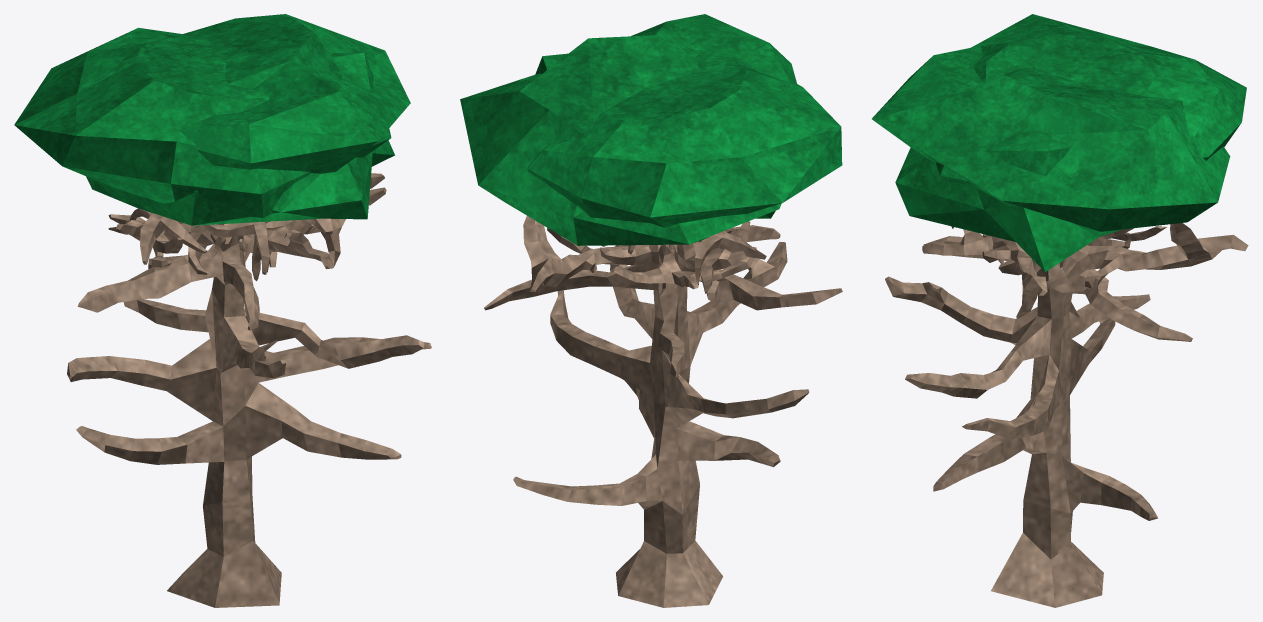
Rendered from stumps.fbx.
The picture shows the model from 3 angles, left to right: view 1: azimuth 30°, elevation 25°; view 2: azimuth 150°, elevation 25°; view 3: azimuth 270°, elevation 25°; orthographic projection.
Visible parts, largest first — view 1: sphere_1, sphere, Icosphere_selection, TREE TOP 1, Icosphere_selection_selection_21, Icosphere_selection_selection_20, Icosphere_selection_selection_16, Icosphere_selection_selection_17, Icosphere_selection_selection, Icosphere_selection_selection_18, Icosphere_selection_selection_19, Icosphere_selection_selection_15 (+6 smaller); view 2: sphere_1, sphere, Icosphere_selection, Icosphere_selection_selection_15, Icosphere_selection_selection_20, Icosphere_selection_selection_22, Icosphere_selection_selection_16, Icosphere_selection_selection, Icosphere_selection_selection_18, Icosphere_selection_selection_14, Icosphere_selection_selection_2, Icosphere_selection_selection_17 (+10 smaller); view 3: sphere, sphere_1, Icosphere_selection, TREE TOP 1, Icosphere_selection_selection_17, Icosphere_selection_selection_18, Icosphere_selection_selection_22, Icosphere_selection_selection_2, Icosphere_selection_selection_21, Icosphere_selection_selection_15, Icosphere_selection_selection_14, Icosphere_selection_selection_20 (+5 smaller).
Part boxes in pixels (x1,y1,x2,y2): sphere_1: (14,27,391,217); sphere: (171,14,410,173); Icosphere_selection: (167,243,281,607); TREE TOP 1: (86,140,394,225); Icosphere_selection_selection_21: (245,383,401,459); Icosphere_selection_selection_20: (67,339,216,420); Icosphere_selection_selection_16: (76,421,224,464); Icosphere_selection_selection_17: (244,309,424,368); Icosphere_selection_selection: (77,244,224,312); Icosphere_selection_selection_18: (220,316,285,378); Icosphere_selection_selection_19: (123,289,216,365); Icosphere_selection_selection_15: (256,337,431,382); sphere_1: (527,53,842,227); sphere: (460,14,796,245); Icosphere_selection: (616,248,722,607); Icosphere_selection_selection_15: (550,290,653,398); Icosphere_selection_selection_20: (662,350,809,428); Icosphere_selection_selection_22: (513,455,662,509); Icosphere_selection_selection_16: (676,421,780,467); Icosphere_selection_selection: (674,251,842,310); Icosphere_selection_selection_18: (687,242,787,364); Icosphere_selection_selection_14: (484,262,659,310); Icosphere_selection_selection_2: (529,245,649,292); Icosphere_selection_selection_17: (610,245,654,339); sphere: (872,44,1230,231); sphere_1: (935,14,1246,191); Icosphere_selection: (991,264,1103,607); TREE TOP 1: (895,147,1121,272); Icosphere_selection_selection_17: (905,316,1051,398); Icosphere_selection_selection_18: (885,276,1037,344); Icosphere_selection_selection_22: (1062,456,1157,520); Icosphere_selection_selection_2: (1060,234,1248,271); Icosphere_selection_selection_21: (933,392,1046,491); Icosphere_selection_selection_15: (962,355,1062,439); Icosphere_selection_selection_14: (1060,267,1192,341); Icosphere_selection_selection_20: (1070,318,1115,394).
Bounding box in the file's own units: 1187 × 1704 × 1109.
Materials: 2 (2 with a texture image).
